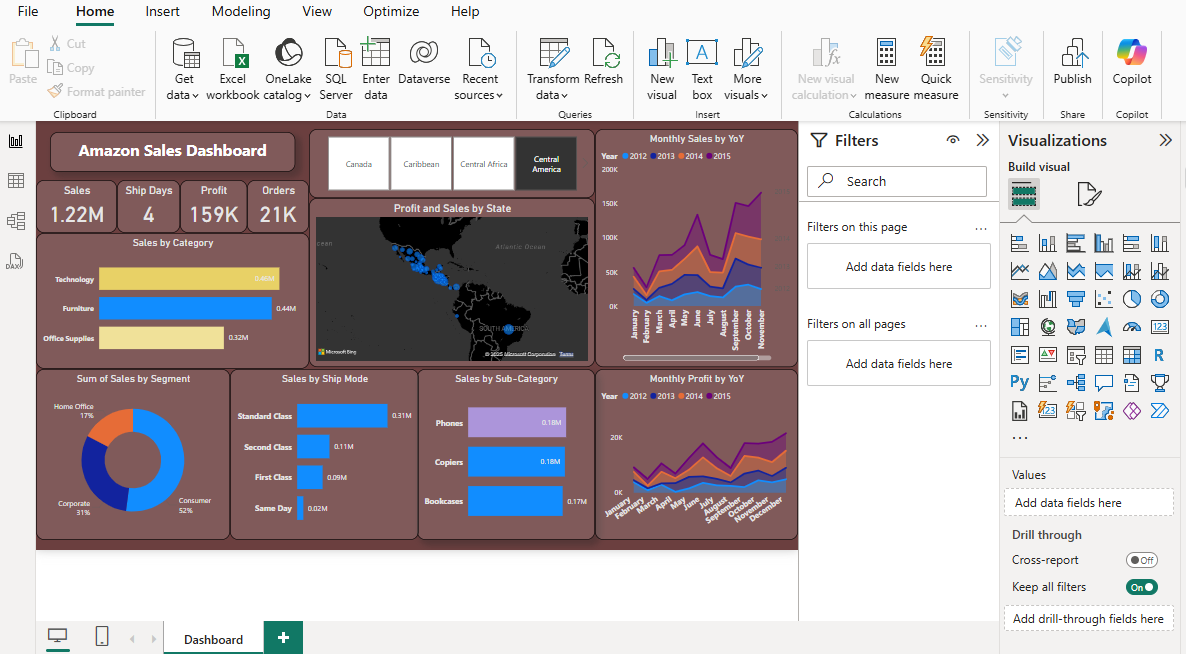

This screenshot's page, from the dashboard's own definition file:
{"tool":"powerbi","page":{"name":"Dashboard","canvas":[1280,720],"ordinal":0},"visuals":[{"type":"clusteredBarChart","title":"Sales by Category","fields":{"Category":["Amazone data.Category"],"Y":["Sum(Amazone data.Sales)"]},"box":[0,188.1,458.6,228.5],"z":0},{"type":"clusteredBarChart","title":"Sales by Sub-Category","fields":{"Category":["Amazone data.Sub-Category"],"Y":["Sum(Amazone data.Sales)"]},"box":[640,416.6,299,287.2],"z":1000},{"type":"clusteredBarChart","title":"Sales by Ship Mode","fields":{"Category":["Amazone data.Ship Mode"],"Y":["Sum(Amazone data.Sales)"]},"box":[325.9,416.6,317.5,287.2],"z":2000},{"type":"stackedAreaChart","title":"Monthly Sales by YoY","fields":{"Y":["Sum(Amazone data.Sales)"],"Series":["Amazone data.Order Date.Variation.Date Hierarchy.Year"],"Category":["Amazone data.Order Date.Variation.Date Hierarchy.Month","Amazone data.Order Date.Variation.Date Hierarchy.Day"]},"box":[939,13.4,341,399.8],"z":3000},{"type":"stackedAreaChart","title":"Monthly Profit by YoY","fields":{"Series":["Amazone data.Order Date.Variation.Date Hierarchy.Year"],"Y":["Sum(Amazone data.Profit)"],"Category":["Amazone data.Order Date.Variation.Date Hierarchy.Month","Amazone data.Order Date.Variation.Date Hierarchy.Day"]},"box":[939,416.6,341,287.2],"z":4000},{"type":"donutChart","fields":{"Category":["Amazone data.Segment"],"Y":["Sum(Amazone data.Sales)"]},"box":[0,416.6,325.9,287.2],"z":5000},{"type":"slicer","fields":{"Values":["Amazone data.Region"]},"box":[457.9,13,481,116.6],"z":6000},{"type":"textbox","box":[23.5,18.5,411.5,67.2],"z":7000},{"type":"card","title":"Sales","fields":{"Values":["Sum(Amazone data.Sales)"]},"box":[0,99.1,136.1,89],"z":8000},{"type":"card","title":"Profit","fields":{"Values":["Sum(Amazone data.Profit)"]},"box":[241.9,99.1,112.5,89],"z":9000},{"type":"card","title":"Ship Days","fields":{"Values":["Avg(Amazone data.Avg_Delivery)"]},"box":[136.1,99.1,105.8,89],"z":10000},{"type":"card","title":"Orders","fields":{"Values":["Sum(Amazone data.Quantity)"]},"box":[354.4,99.1,104.1,89],"z":11000},{"type":"map","title":"Profit and Sales by State","fields":{"Category":["Amazone data.State"],"Size":["Sum(Amazone data.Sales)"]},"box":[458.6,129.3,480.4,283.9],"z":12000}]}

Visuals, with their boxes on the page's 1280x720 design canvas (x1, y1, x2, y2). These are canvas units, not pixel positions in the 1186x654 screenshot, which may show the page scaled, cropped or inside an application window:
"Sales by Category" clusteredBarChart: 0, 188, 459, 417
"Sales by Sub-Category" clusteredBarChart: 640, 417, 939, 704
"Sales by Ship Mode" clusteredBarChart: 326, 417, 643, 704
"Monthly Sales by YoY" stackedAreaChart: 939, 13, 1280, 413
"Monthly Profit by YoY" stackedAreaChart: 939, 417, 1280, 704
donutChart - Amazone data.Segment x Sum(Amazone data.Sales): 0, 417, 326, 704
slicer - Amazone data.Region: 458, 13, 939, 130
textbox: 24, 18, 435, 86
"Sales" card: 0, 99, 136, 188
"Profit" card: 242, 99, 354, 188
"Ship Days" card: 136, 99, 242, 188
"Orders" card: 354, 99, 458, 188
"Profit and Sales by State" map: 459, 129, 939, 413
